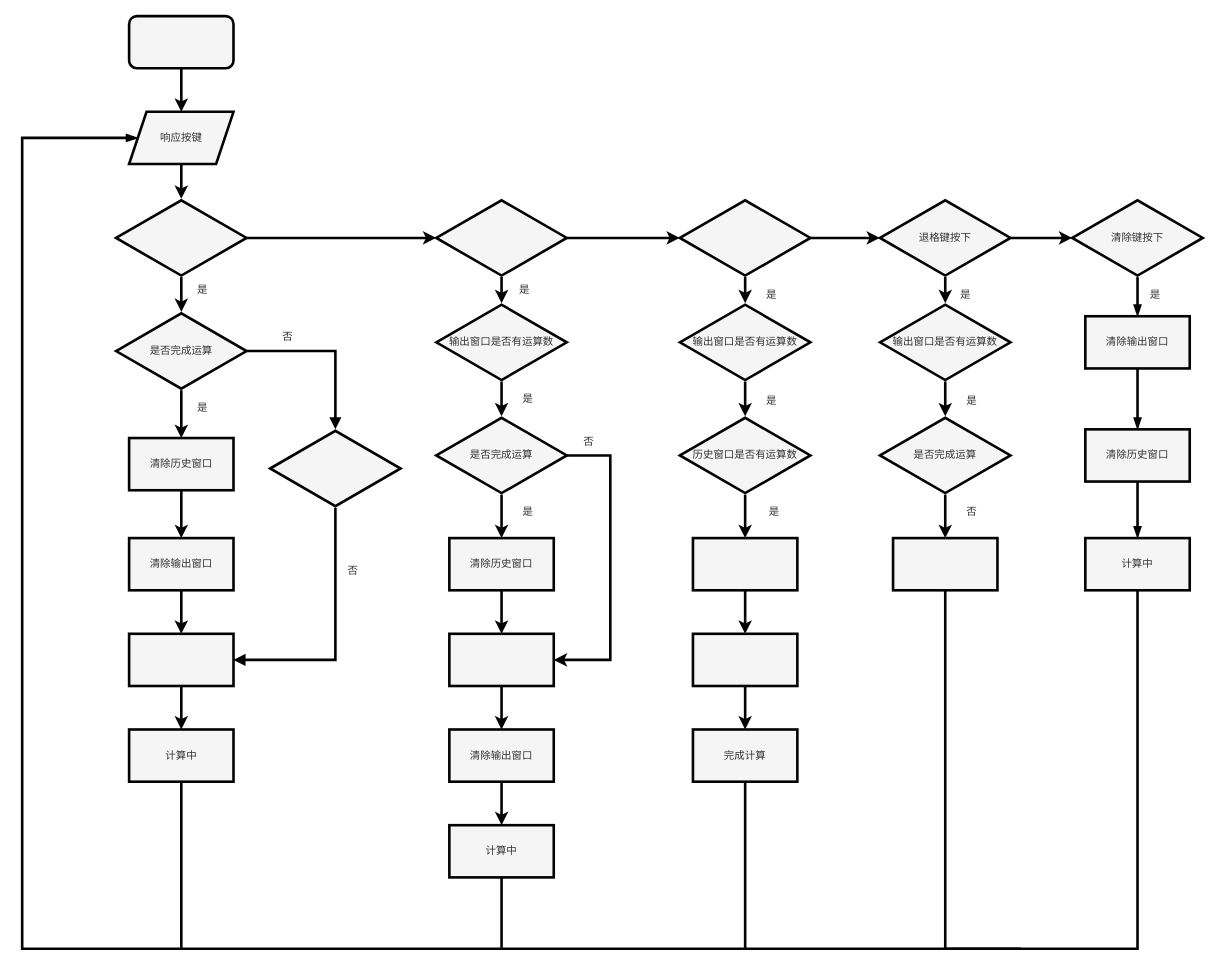
The diagram is 1219 pixels wide and 972 high, and some of its shapes have lost their labels. Each missing label, with the centre of its shape:
"历史窗口添加操作数与等号" belongs at point (744, 563).
"历史窗口添加操作数与运算符" belongs at point (501, 659).
"开始" belongs at point (180, 41).
"数字键是按下" belongs at point (180, 237).
"计算结果并输出" belongs at point (744, 659).
"计算键按下" belongs at point (744, 237).
"输出数字是否超出上限" belongs at point (335, 468).
"输出窗口删除一位" belongs at point (944, 563).
"输出窗口添加数字" belongs at point (180, 659).
"运算符按下" belongs at point (501, 237).
